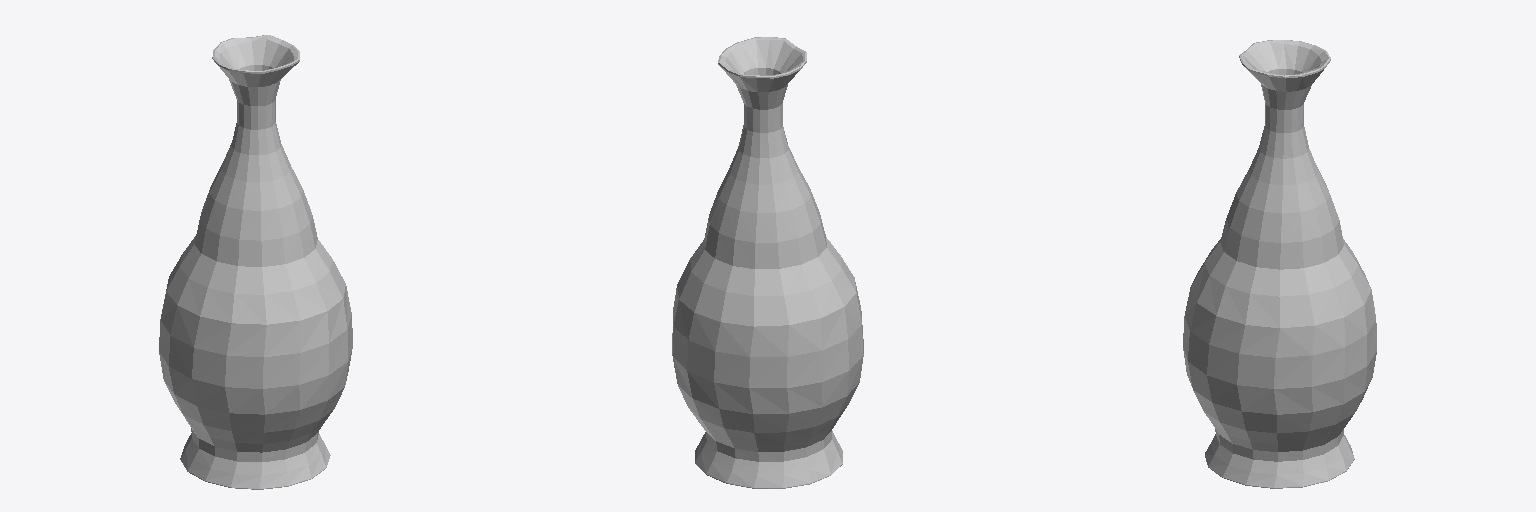
File: jarron_colores.obj
3 renders of one model, left to right at view 1: azimuth 30°, elevation 25°; view 2: azimuth 150°, elevation 25°; view 3: azimuth 270°, elevation 25°, orthographic.
Parts seen in each view (by area): view 1: jarron_colores_retopo; view 2: jarron_colores_retopo; view 3: jarron_colores_retopo.
Boxes of the visible parts, x1=… form: jarron_colores_retopo: x1=159, y1=35, x2=352, y2=489; jarron_colores_retopo: x1=672, y1=37, x2=863, y2=488; jarron_colores_retopo: x1=1183, y1=40, x2=1376, y2=488.
Size of the model in its own units: 13.31 by 30.53 by 13.31.